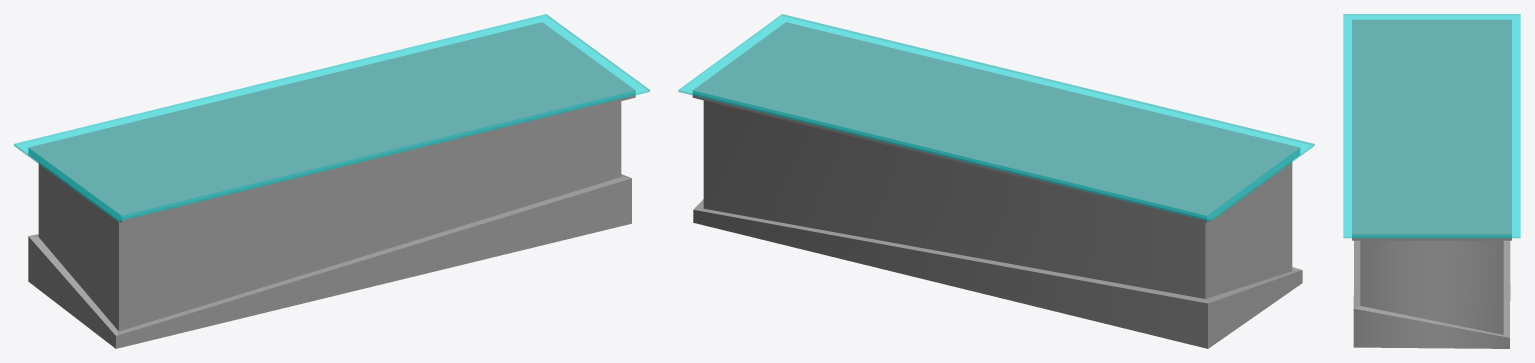
File: table_bar_SM.fbx
The picture shows the model from 3 angles, left to right: view 1: azimuth 30°, elevation 25°; view 2: azimuth 150°, elevation 25°; view 3: azimuth 270°, elevation 25°; orthographic projection. The views are drawn at different scales.
Parts seen in each view (by area): view 1: table_bar_SM; view 2: table_bar_SM; view 3: table_bar_SM.
Boxes of the visible parts, x1,y1,x2,y2 form: table_bar_SM: (14, 14, 649, 348); table_bar_SM: (678, 14, 1314, 348); table_bar_SM: (1343, 14, 1520, 348).
Bounding box in the file's own units: 420 × 102 × 142.
